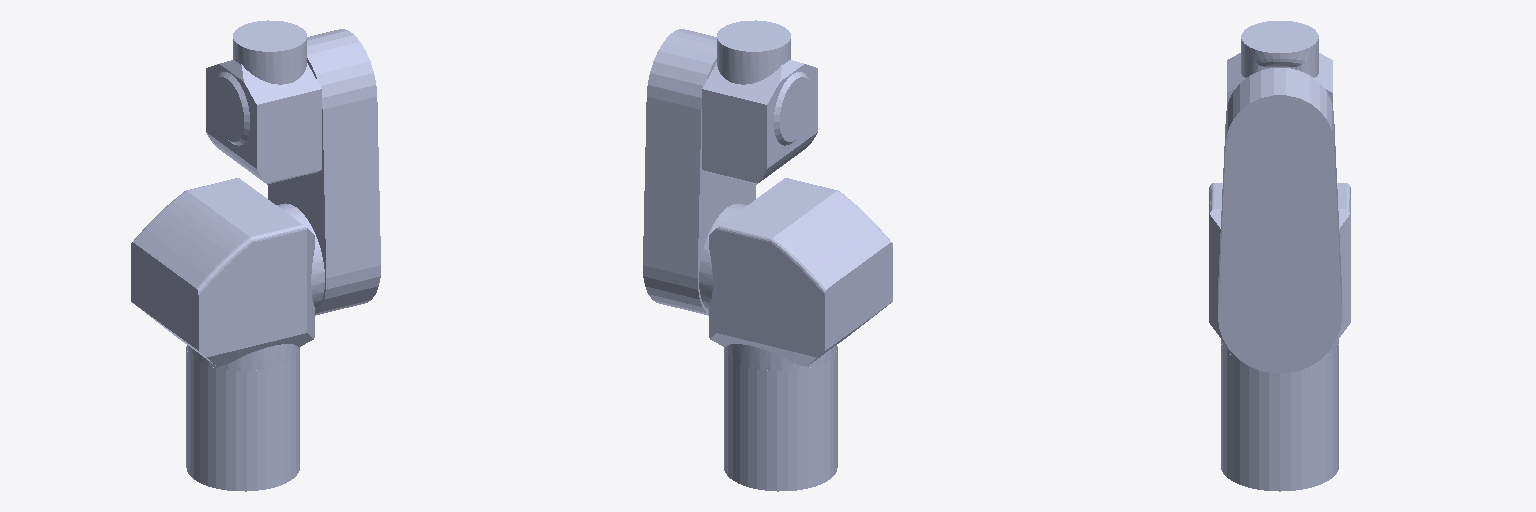
The robot description file, URDF, robot "arm_2":
<robot
  name="arm_2">
  <link
    name="base_link">
    <inertial>
      <origin
        xyz="-1.7542E-18 0.105 7.3479E-18"
        rpy="0 0 0" />
      <mass
        value="5.3438" />
      <inertia
        ixx="104.09"
        ixy="0"
        ixz="0"
        iyy="104.09"
        iyz="0"
        izz="73.96" />
    </inertial>
    <visual>
      <origin
        xyz="0 0 0"
        rpy="0 0 0" />
      <geometry>
        <mesh
          filename="package://arm_2/meshes/base_link.STL" />
      </geometry>
      <material
        name="">
        <color
          rgba="0.79216 0.81961 0.93333 1" />
      </material>
    </visual>
    <collision>
      <origin
        xyz="0 0 0"
        rpy="0 0 0" />
      <geometry>
        <mesh
          filename="package://arm_2/meshes/base_link.STL" />
      </geometry>
    </collision>
  </link>
  <link
    name="Link_1">
    <inertial>
      <origin
        xyz="-0.019385 -8.9375E-10 0.12294"
        rpy="0 0 0" />
      <mass
        value="10.375" />
      <inertia
        ixx="264.47"
        ixy="0"
        ixz="0.64"
        iyy="284.51"
        iyz="0"
        izz="266" />
    </inertial>
    <visual>
      <origin
        xyz="0 0 0"
        rpy="0 0 0" />
      <geometry>
        <mesh
          filename="package://arm_2/meshes/Link_1.STL" />
      </geometry>
      <material
        name="">
        <color
          rgba="0.79216 0.81961 0.93333 1" />
      </material>
    </visual>
    <collision>
      <origin
        xyz="0 0 0"
        rpy="0 0 0" />
      <geometry>
        <mesh
          filename="package://arm_2/meshes/Link_1.STL" />
      </geometry>
    </collision>
  </link>
  <joint
    name="Joint_1"
    type="continuous">
    <origin
      xyz="0 0 0.21"
      rpy="0 0 0" />
    <parent
      link="base_link" />
    <child
      link="Link_1" />
    <axis
      xyz="0 0 1" />
  </joint>
  <link
    name="Link_2">
    <inertial>
      <origin
        xyz="0.05 -1.1837E-15 0.13394"
        rpy="0 0 0" />
      <mass
        value="7.5525" />
      <inertia
        ixx="464.52"
        ixy="0"
        ixz="0"
        iyy="424.13"
        iyz="0"
        izz="83.4" />
    </inertial>
    <visual>
      <origin
        xyz="0 0 0"
        rpy="0 0 0" />
      <geometry>
        <mesh
          filename="package://arm_2/meshes/Link_2.STL" />
      </geometry>
      <material
        name="">
        <color
          rgba="0.79216 0.81961 0.93333 1" />
      </material>
    </visual>
    <collision>
      <origin
        xyz="0 0 0"
        rpy="0 0 0" />
      <geometry>
        <mesh
          filename="package://arm_2/meshes/Link_2.STL" />
      </geometry>
    </collision>
  </link>
  <joint
    name="Joint_2"
    type="continuous">
    <origin
      xyz="0.0975 0 0.131"
      rpy="0 0 0" />
    <parent
      link="Link_1" />
    <child
      link="Link_2" />
    <axis
      xyz="1 0 0" />
  </joint>
  <link
    name="Link_3">
    <inertial>
      <origin
        xyz="-0.0579256660316841 -5.15120599368384E-08 -0.0132210404676266"
        rpy="0 0 0" />
      <mass
        value="3.85373493908444" />
      <inertia
        ixx="73.46"
        ixy="0"
        ixz="-.44"
        iyy="64.77"
        iyz="0"
        izz="39.22" />
    </inertial>
    <visual>
      <origin
        xyz="0 0 0"
        rpy="0 0 0" />
      <geometry>
        <mesh
          filename="package://arm_2/meshes/Link_3.STL" />
      </geometry>
      <material
        name="">
        <color
          rgba="0.792156862745098 0.819607843137255 0.933333333333333 1" />
      </material>
    </visual>
    <collision>
      <origin
        xyz="0 0 0"
        rpy="0 0 0" />
      <geometry>
        <mesh
          filename="package://arm_2/meshes/Link_3.STL" />
      </geometry>
    </collision>
  </link>
  <joint
    name="Joint_3"
    type="continuous">
    <origin
      xyz="0 0 0.29"
      rpy="0 0 0" />
    <parent
      link="Link_2" />
    <child
      link="Link_3" />
    <axis
      xyz="1 0 0" />
  </joint>
  <link
    name="Link_4">
    <inertial>
      <origin
        xyz="8.4633E-08 -0.0036605 0.094571"
        rpy="0 0 0" />
      <mass
        value="1.9022" />
      <inertia
        ixx="28.02"
        ixy="0"
        ixz="0"
        iyy="29.53"
        iyz="-.94"
        izz="10.51" />
    </inertial>
    <visual>
      <origin
        xyz="0 0 0"
        rpy="0 0 0" />
      <geometry>
        <mesh
          filename="package://arm_2/meshes/Link_4.STL" />
      </geometry>
      <material
        name="">
        <color
          rgba="0.79216 0.81961 0.93333 1" />
      </material>
    </visual>
    <collision>
      <origin
        xyz="0 0 0"
        rpy="0 0 0" />
      <geometry>
        <mesh
          filename="package://arm_2/meshes/Link_4.STL" />
      </geometry>
    </collision>
  </link>
  <joint
    name="Joint_4"
    type="continuous">
    <origin
      xyz="-0.0485 0 0.11"
      rpy="0 0 0" />
    <parent
      link="Link_3" />
    <child
      link="Link_4" />
    <axis
      xyz="0 0 1" />
  </joint>
  <link
    name="Link_5">
    <inertial>
      <origin
        xyz="-4.0085E-11 -7.7436E-09 0.0092523"
        rpy="0 0 0" />
      <mass
        value="0.1701" />
      <inertia
        ixx=".49"
        ixy="0"
        ixz="0"
        iyy=".4"
        iyz="0"
        izz=".22" />
    </inertial>
    <visual>
      <origin
        xyz="0 0 0"
        rpy="0 0 0" />
      <geometry>
        <mesh
          filename="package://arm_2/meshes/Link_5.STL" />
      </geometry>
      <material
        name="">
        <color
          rgba="0.79216 0.81961 0.93333 1" />
      </material>
    </visual>
    <collision>
      <origin
        xyz="0 0 0"
        rpy="0 0 0" />
      <geometry>
        <mesh
          filename="package://arm_2/meshes/Link_5.STL" />
      </geometry>
    </collision>
  </link>
  <joint
    name="Joint_5"
    type="continuous">
    <origin
      xyz="0 0 0.2"
      rpy="0 0 0" />
    <parent
      link="Link_4" />
    <child
      link="Link_5" />
    <axis
      xyz="1 0 0" />
  </joint>
  <link
    name="Link_6">
    <inertial>
      <origin
        xyz="0.012154 0.012164 0.047001"
        rpy="0 0 0" />
      <mass
        value="0.19074" />
      <inertia
        ixx="0.0001307"
        ixy="-3.7989E-06"
        ixz="6.8496E-06"
        iyy="0.00013074"
        iyz="6.9285E-06"
        izz="5.3313E-05" />
    </inertial>
    <visual>
      <origin
        xyz="0 0 0"
        rpy="0 0 0" />
      <geometry>
        <mesh
          filename="package://arm_2/meshes/Link_6.STL" />
      </geometry>
      <material
        name="">
        <color
          rgba="0.79216 0.81961 0.93333 1" />
      </material>
    </visual>
    <collision>
      <origin
        xyz="0 0 0"
        rpy="0 0 0" />
      <geometry>
        <mesh
          filename="package://arm_2/meshes/Link_6.STL" />
      </geometry>
    </collision>
  </link>
  <joint
    name="Joint_6"
    type="continuous">
    <origin
      xyz="0 0 0.0555000000000004"
      rpy="0 0 0" />
    <parent
      link="Link_5" />
    <child
      link="Link_6" />
    <axis
      xyz="0 0 1" />
  </joint>
</robot>

--- What the picture shows (computed from the rendered views, not written in the file) ---
The picture shows the robot from 3 angles, left to right: view 1: azimuth 30°, elevation 25°; view 2: azimuth 150°, elevation 25°; view 3: azimuth 270°, elevation 25°; orthographic projection.
Model arm_2 with 7 links and 6 joints (6 continuous), rooted at base_link, posed every joint at zero.
Visible links, largest first — view 1: Link_1, Link_2, Link_3, base_link; view 2: Link_1, Link_2, Link_3, base_link; view 3: Link_2, base_link, Link_3, Link_1.
Boxes of the visible links, x1,y1,x2,y2 form: Link_1: (131, 178, 324, 370); Link_2: (268, 29, 380, 315); Link_3: (206, 20, 321, 184); base_link: (186, 346, 299, 491); Link_1: (699, 178, 892, 370); Link_2: (643, 29, 755, 315); Link_3: (702, 20, 817, 184); base_link: (724, 346, 837, 491); Link_2: (1218, 68, 1341, 372); base_link: (1221, 344, 1338, 491); Link_3: (1227, 21, 1332, 104); Link_1: (1209, 183, 1350, 357).
Bounding box of the posed robot: 0.341 × 0.214 × 0.741 m (x, y, z).
4 mesh visuals loaded from 7 distinct referenced files (4 binary STL); not drawn: 3 (reference not matched to a file when rendering).